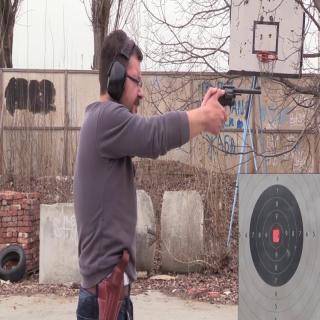gun: (202, 78, 261, 137)
